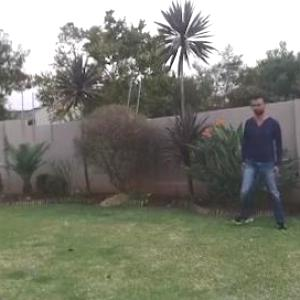follow: (240, 82, 284, 232)
